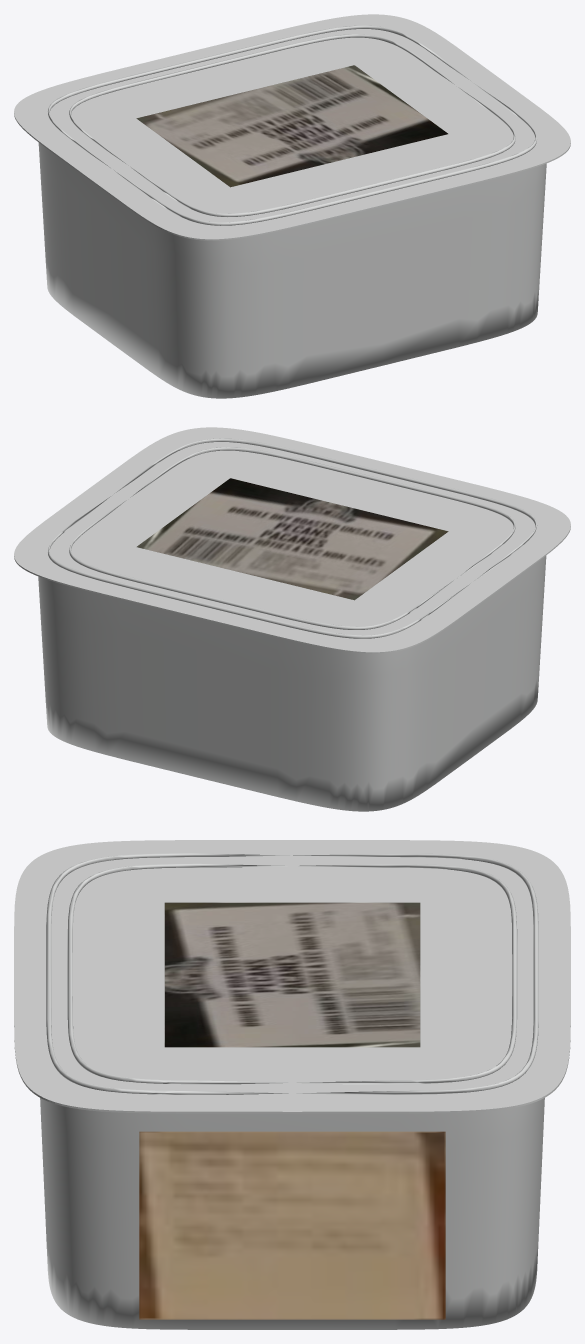
3 views of the same model, one above another, from view 1: azimuth 30°, elevation 25°; view 2: azimuth 150°, elevation 25°; view 3: azimuth 270°, elevation 25° (orthographic). The views are drawn at different scales.
Visible parts, largest first — view 1: lid, body; view 2: lid, body; view 3: lid, body.
Boxes of the visible parts, left/top/right/bottom form: lid: left=14, top=14, right=570, bottom=240; body: left=38, top=143, right=546, bottom=398; lid: left=14, top=427, right=570, bottom=653; body: left=38, top=556, right=546, bottom=811; lid: left=14, top=840, right=570, bottom=1113; body: left=40, top=1098, right=544, bottom=1329.
Bounding box in the file's own units: 0.1305 × 0.0536 × 0.113.
Materials: 3 (2 with a texture image).
